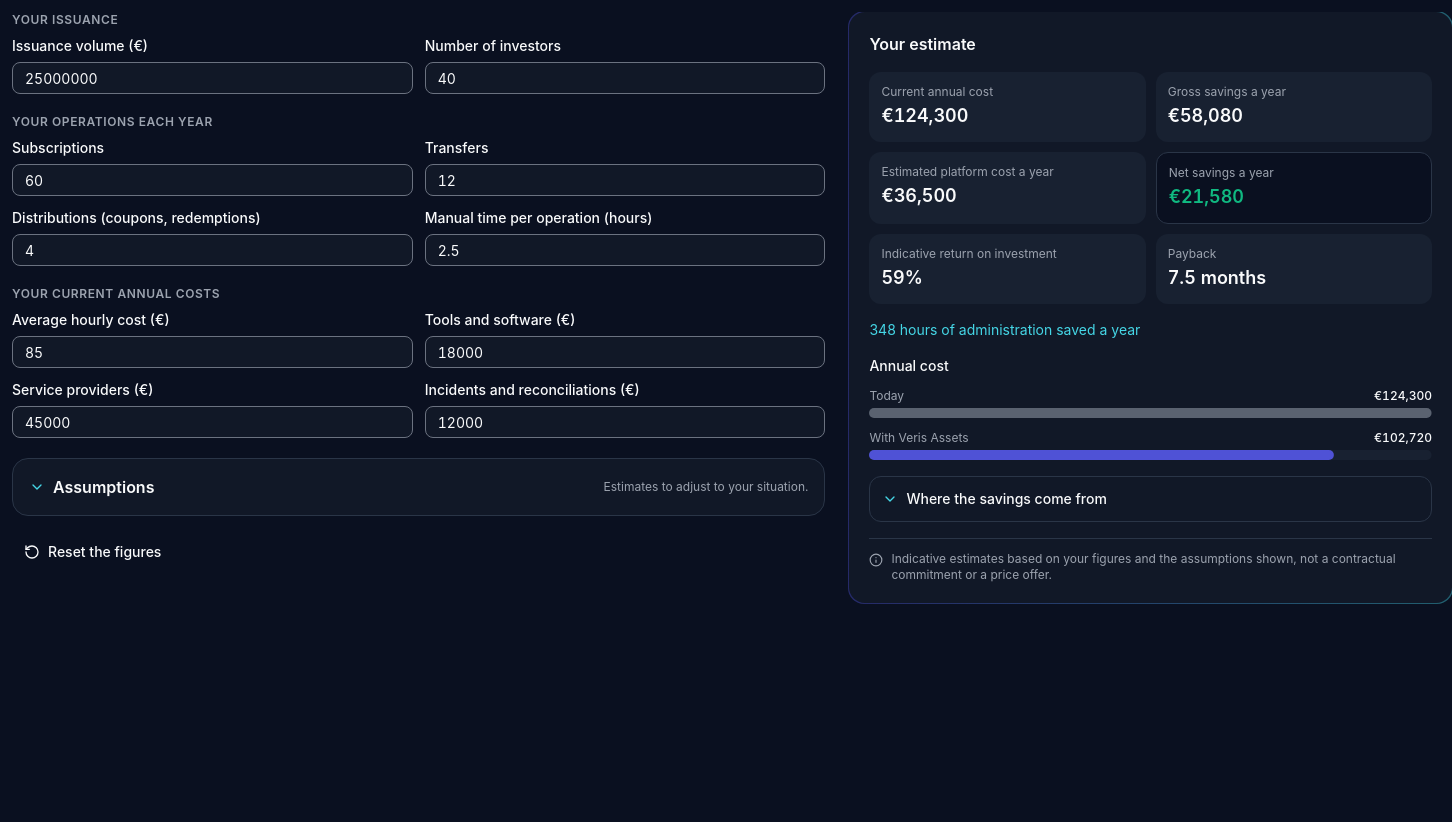
Scenario: business case calculator (page) › explains what is missing instead of showing a wrong figure
The image size is (1452, 822).
Replace the text in the field labelled "Average hourly cost (€)" with "abc" at (212, 352), box left=12, top=336, right=413, bottom=368
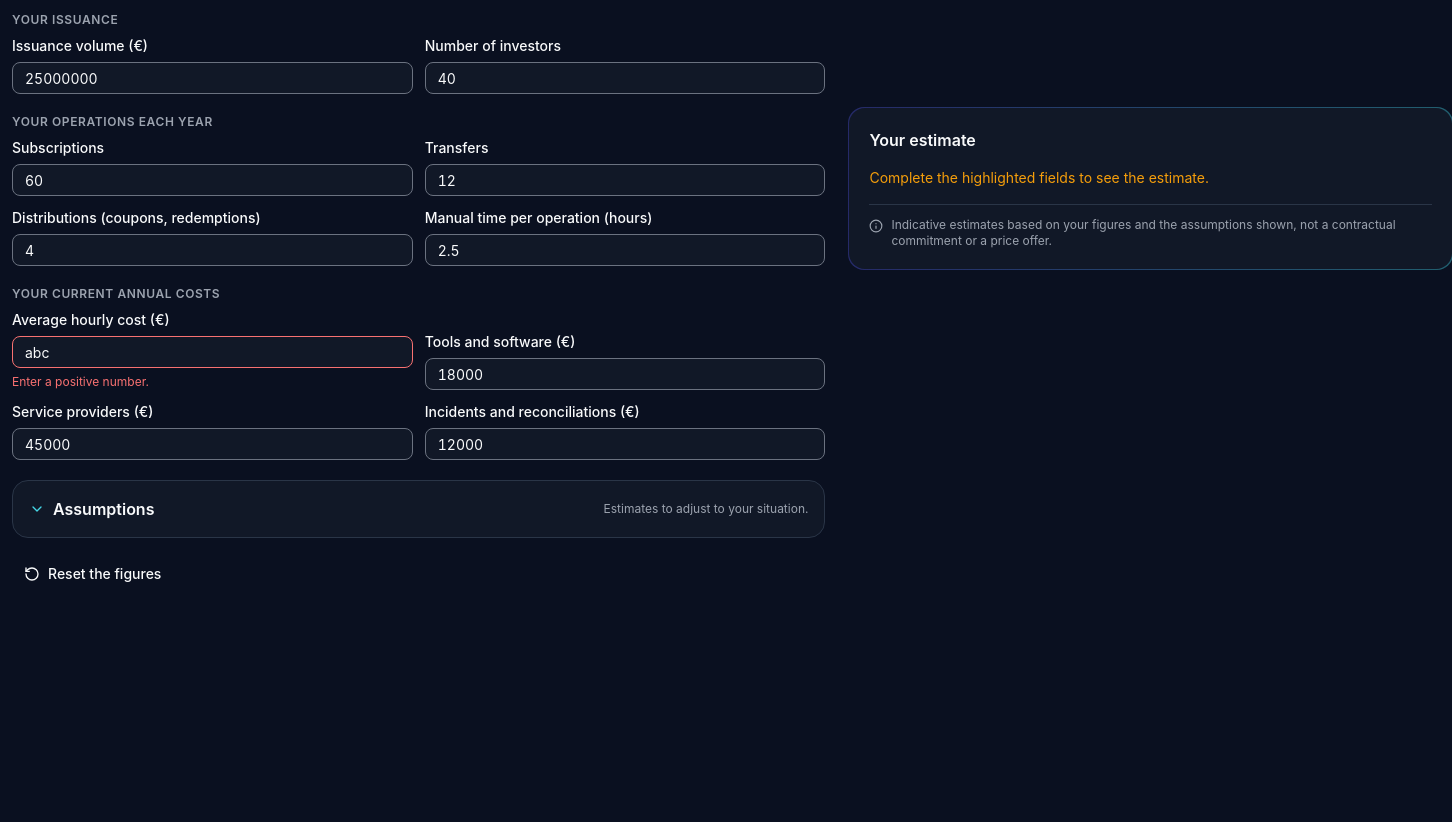
Result: the text "Enter a positive number." is shown at left=12, top=374, right=149, bottom=389
Result: the text "Complete the highlighted fields to see the estimate." is shown at left=869, top=169, right=1209, bottom=186
